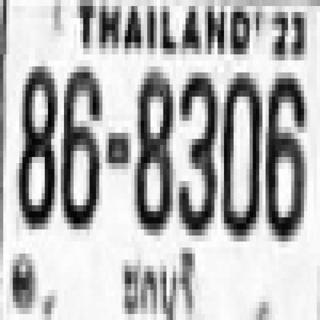N00: (221, 72, 259, 236)
N03: (176, 70, 214, 226)
N06: (61, 60, 99, 224), (266, 72, 304, 236)
N08: (16, 60, 54, 224), (133, 66, 171, 230)
P13: (118, 242, 202, 320)
